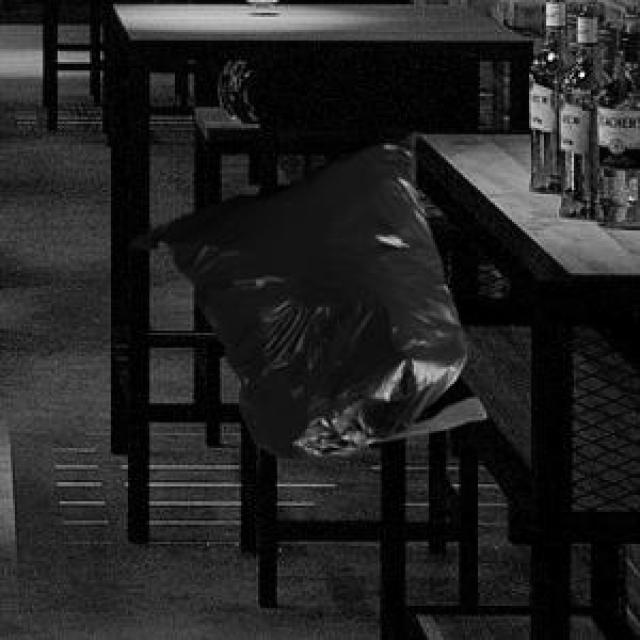miscellaneous trash: (126, 128, 482, 454)
